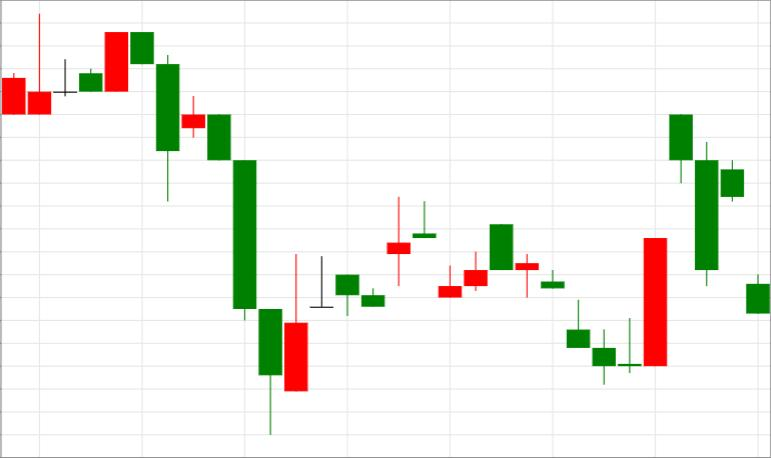morning_star_rise: (490, 224, 668, 385)
